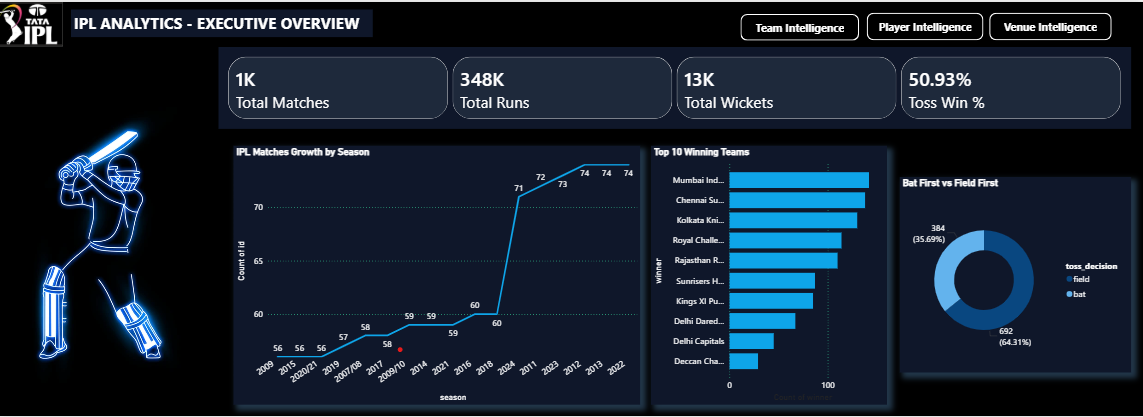

This screenshot's page, from the dashboard's own definition file:
{"tool":"powerbi","page":{"name":"Executive Overview","canvas":[2000,720],"ordinal":0},"visuals":[{"type":"actionButton","box":[1289.3,14.3,218.3,58.3],"z":0},{"type":"actionButton","box":[1507.7,12.7,215,60],"z":1000},{"type":"actionButton","box":[1722.7,12.7,225,60],"z":2000},{"type":"image","box":[0,0,115,76.7],"z":3000},{"type":"textbox","box":[130,13.3,525,48.3],"z":4000},{"type":"cardVisual","fields":{"Data":["ipl_analytics matches.Total Matches","ipl_analytics deliveries.Total Runs","ipl_analytics deliveries.Total Wickets","ipl_analytics matches.Toss Win %"]},"box":[387.5,77.5,1587.5,142.5],"z":5000},{"type":"lineChart","title":"IPL Matches Growth by Season","fields":{"Category":["ipl_analytics matches.season"],"Y":["CountNonNull(ipl_analytics matches.id)"]},"box":[412.5,250,707.5,450],"z":6000},{"type":"clusteredBarChart","title":"Top 10 Winning Teams","fields":{"Category":["ipl_analytics matches.winner"],"Y":["CountNonNull(ipl_analytics matches.winner)"]},"box":[1140,250,410,450],"z":7000},{"type":"donutChart","title":"Bat First vs Field First","fields":{"Category":["ipl_analytics matches.toss_decision"],"Y":["CountNonNull(ipl_analytics matches.id)"]},"box":[1572.5,305,402.5,340],"z":8000},{"type":"image","box":[57.5,182.5,292.5,480],"z":9000}]}

Visuals, with their boxes in screenshot pixels (x1, y1, x2, y2), scaled from the page's 2000x720 canvas onto the 1143x417 screenshot:
actionButton: region(737, 8, 862, 42)
actionButton: region(862, 7, 985, 42)
actionButton: region(985, 7, 1113, 42)
image: region(0, 0, 66, 44)
textbox: region(74, 8, 374, 36)
cardVisual - ipl_analytics matches.Total Matches x ipl_analytics deliveries.Total Runs: region(221, 45, 1129, 127)
"IPL Matches Growth by Season" lineChart: region(236, 145, 640, 405)
"Top 10 Winning Teams" clusteredBarChart: region(652, 145, 886, 405)
"Bat First vs Field First" donutChart: region(899, 177, 1129, 374)
image: region(33, 106, 200, 384)
